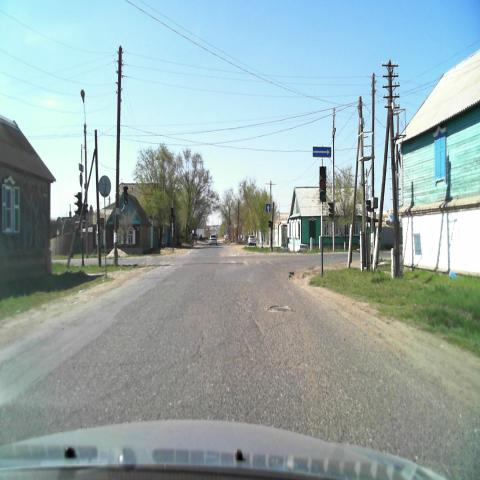5_7_1: (312, 146, 331, 158)
